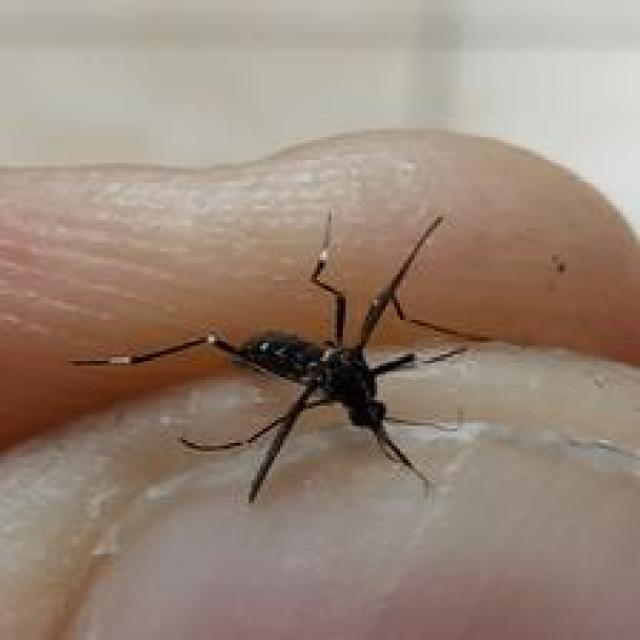Aedes albopictus: (67, 207, 482, 504)
